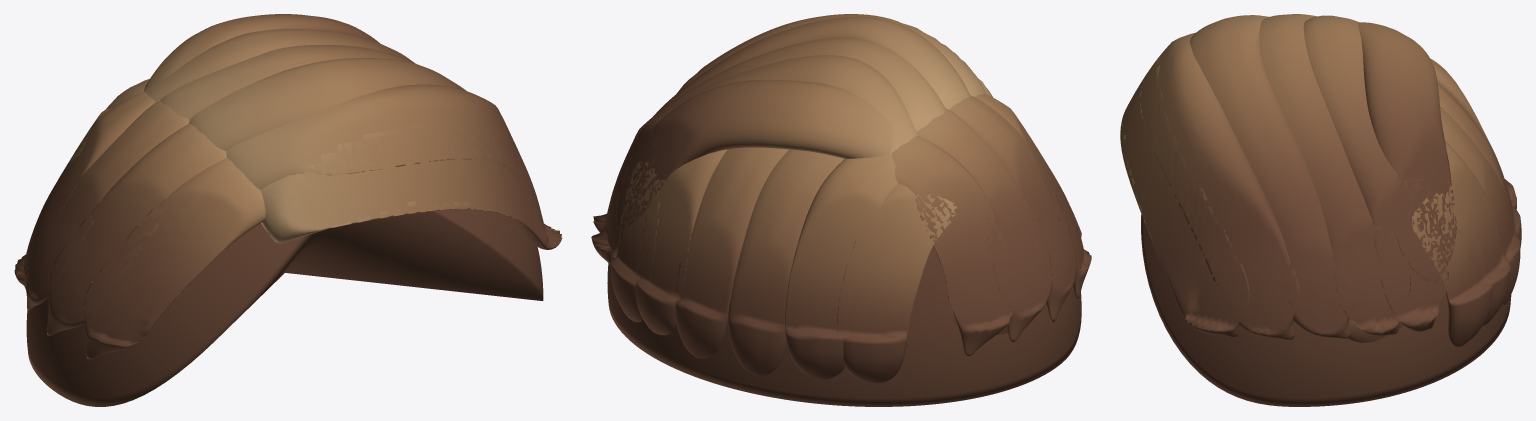
Rendered from Masculine-sidepart-beanie258-hair-ombre.glb.
3 renders of one model, left to right at view 1: azimuth 30°, elevation 25°; view 2: azimuth 150°, elevation 25°; view 3: azimuth 270°, elevation 25°, orthographic. The views are drawn at different scales.
Parts seen in each view (by area): view 1: 226 hair / Hair258 / sculpted side sweep 1, 226 hair / Hair258 / sculpted side sweep 0, 226 hair / Hair258 / recessed roots, 226 hair / Hair258 / sculpted side sweep 2; view 2: 226 hair / Hair258 / sculpted side sweep 0, 226 hair / Hair258 / sculpted side sweep 2, 226 hair / Hair258 / sculpted side sweep 1, 226 hair / Hair258 / recessed roots; view 3: 226 hair / Hair258 / sculpted side sweep 0, 226 hair / Hair258 / sculpted side sweep 1, 226 hair / Hair258 / sculpted side sweep 2, 226 hair / Hair258 / recessed roots.
Part boxes in pixels (<box>): 226 hair / Hair258 / sculpted side sweep 1: <box>14,45,562,359</box>; 226 hair / Hair258 / sculpted side sweep 0: <box>46,14,538,335</box>; 226 hair / Hair258 / recessed roots: <box>26,209,543,406</box>; 226 hair / Hair258 / sculpted side sweep 2: <box>26,58,466,310</box>; 226 hair / Hair258 / sculpted side sweep 0: <box>591,14,1076,379</box>; 226 hair / Hair258 / sculpted side sweep 2: <box>653,16,1052,383</box>; 226 hair / Hair258 / sculpted side sweep 1: <box>593,37,1091,375</box>; 226 hair / Hair258 / recessed roots: <box>607,246,1081,406</box>; 226 hair / Hair258 / sculpted side sweep 0: <box>1140,15,1516,342</box>; 226 hair / Hair258 / sculpted side sweep 1: <box>1120,14,1521,346</box>; 226 hair / Hair258 / sculpted side sweep 2: <box>1189,15,1520,338</box>; 226 hair / Hair258 / recessed roots: <box>1141,214,1511,406</box>.
Size of the model in its own units: 0.9628 by 0.5696 by 0.7579.
